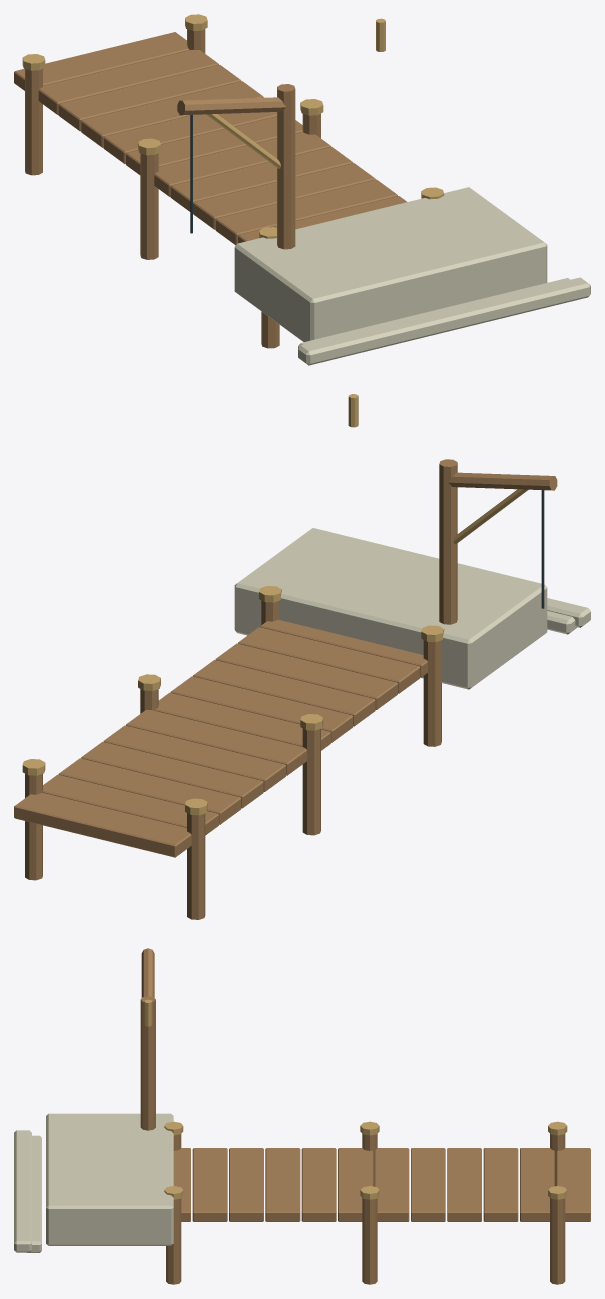
The model's file is level_15.glb.
The picture shows the model from 3 angles, top to bottom: view 1: azimuth 30°, elevation 25°; view 2: azimuth 150°, elevation 25°; view 3: azimuth 270°, elevation 25°; orthographic projection. The views are drawn at different scales.
Parts seen in each view (by area): view 1: dock — level 15; view 2: dock — level 15; view 3: dock — level 15.
Part boxes in pixels (bbox=[...]): dock — level 15: bbox=[14, 14, 590, 365]; dock — level 15: bbox=[14, 394, 590, 919]; dock — level 15: bbox=[14, 948, 590, 1284].
Bounding box in the file's own units: 4.84 × 4.37 × 9.03.
